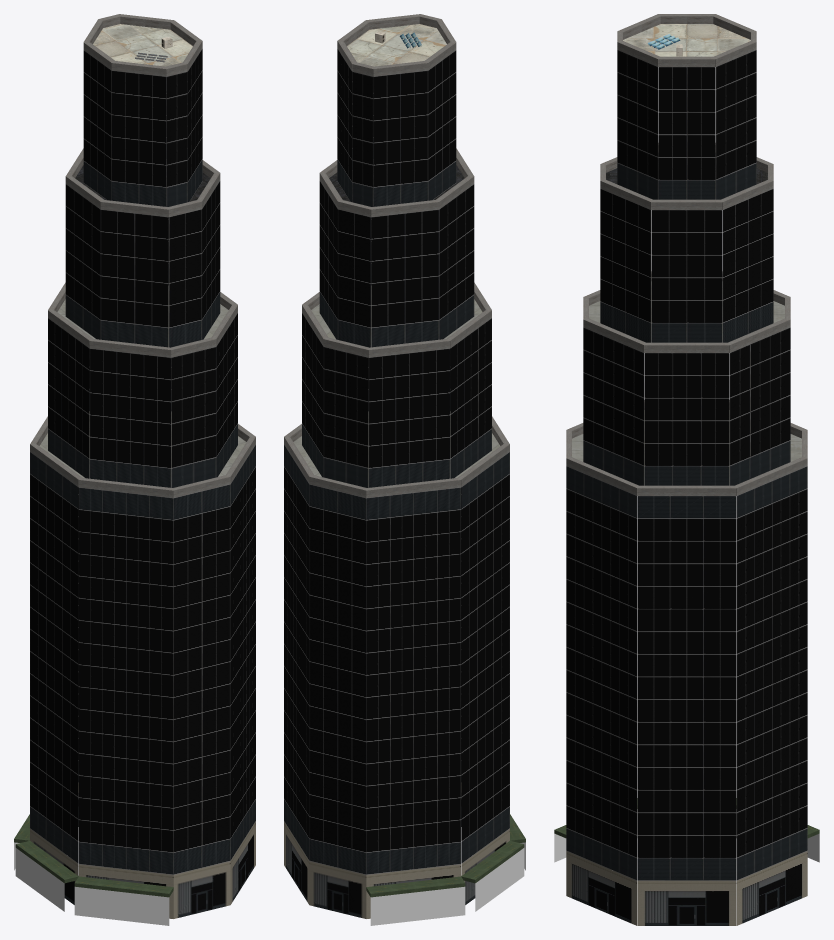
File: building12.gltf
The picture shows the model from 3 angles, left to right: view 1: azimuth 30°, elevation 25°; view 2: azimuth 150°, elevation 25°; view 3: azimuth 270°, elevation 25°; orthographic projection. The views are drawn at different scales.
Visible parts, largest first — view 1: Object_118.018; view 2: Object_118.018; view 3: Object_118.018.
Boxes of the visible parts, x1,y1,x2,y2 form: Object_118.018: (14, 14, 255, 925); Object_118.018: (284, 14, 525, 925); Object_118.018: (554, 14, 819, 925).
Bounding box in the file's own units: 27.12 × 112 × 31.87.
10 materials, 8 textured.
